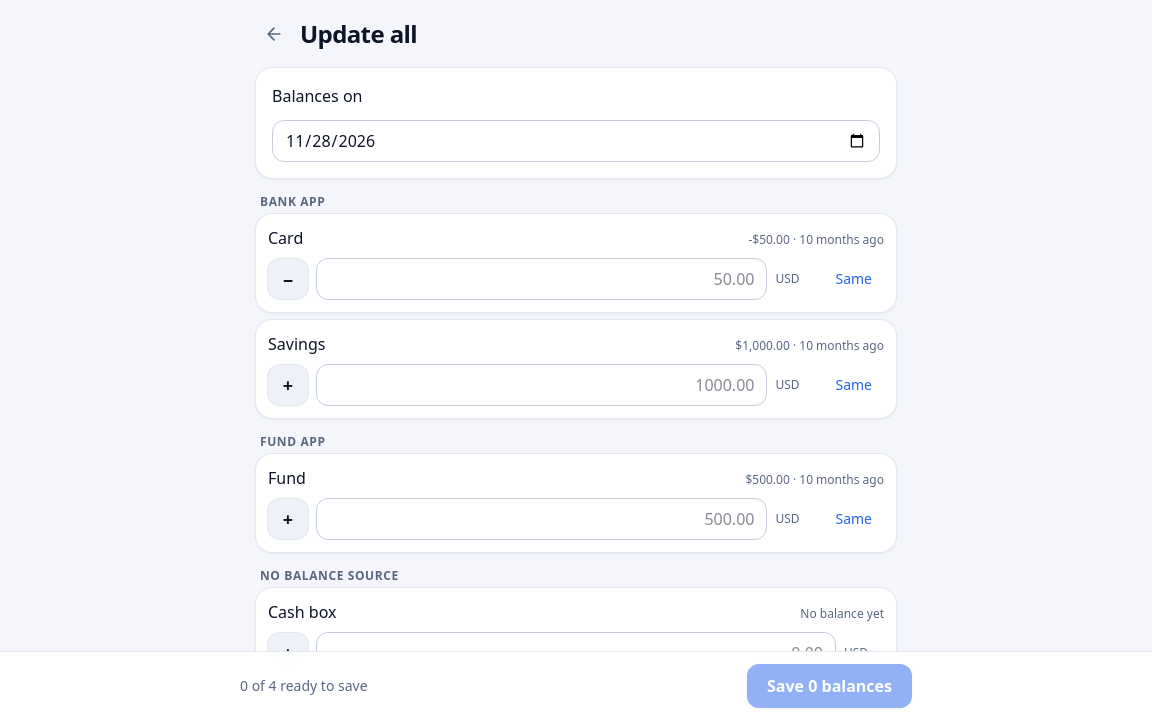
it: UpdateAllPage › flags amounts it can’t read and won’t save until fixed
In the field labelled "Fund": x=542, y=519 [316, 498, 768, 540], type "-5"
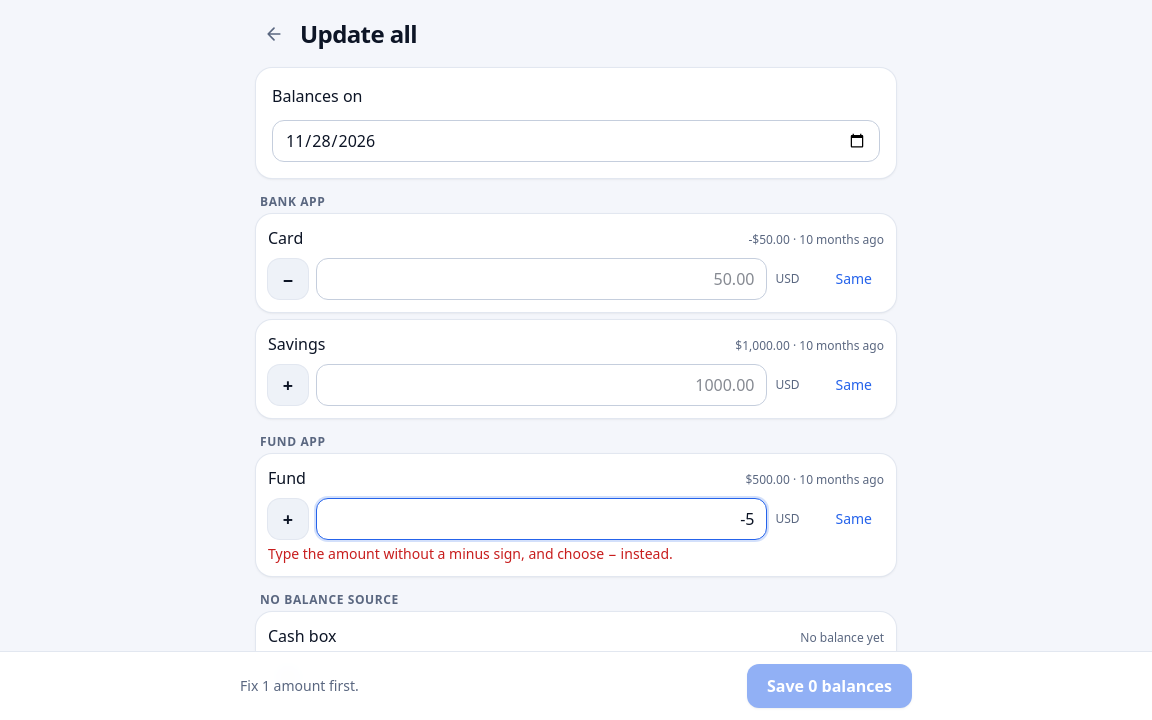
Expected: the button "Save 0 balances" is disabled, [747, 664, 912, 708]
Expected: the message shows "without a minus sign", [268, 544, 673, 563]
Expected: the text "Fix 1 amount first." is shown, [240, 676, 359, 696]
